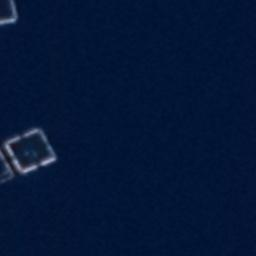square_solid: (2, 125, 59, 177), (1, 1, 24, 28)
